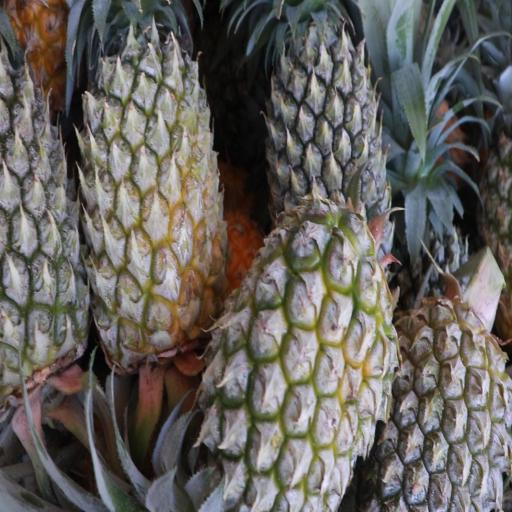------------------------------: (205, 213, 384, 512), (79, 7, 222, 362)
